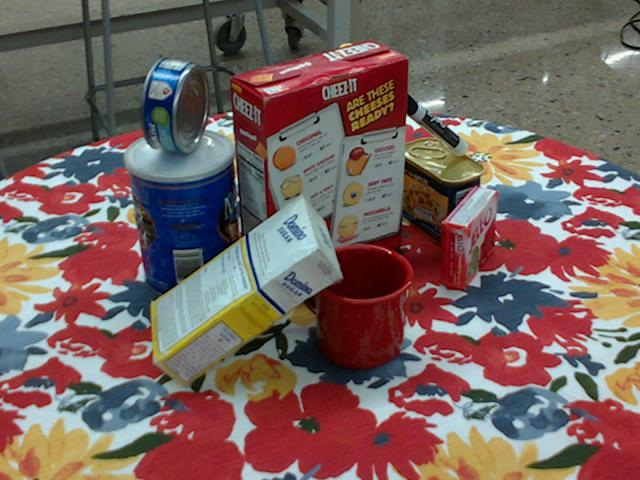cracker_box: (228, 41, 409, 298)
gelatin_box: (440, 185, 498, 290)
large_marker: (392, 90, 468, 155)
master_chef_can: (126, 129, 240, 303)
mug: (299, 242, 413, 368)
mustard_bottle: (318, 44, 384, 223)
potted_meat_can: (397, 138, 484, 246)
sugar_box: (149, 195, 341, 390)
tomato_soup_can: (233, 116, 297, 223)
tuna_fish_can: (141, 57, 207, 153)
